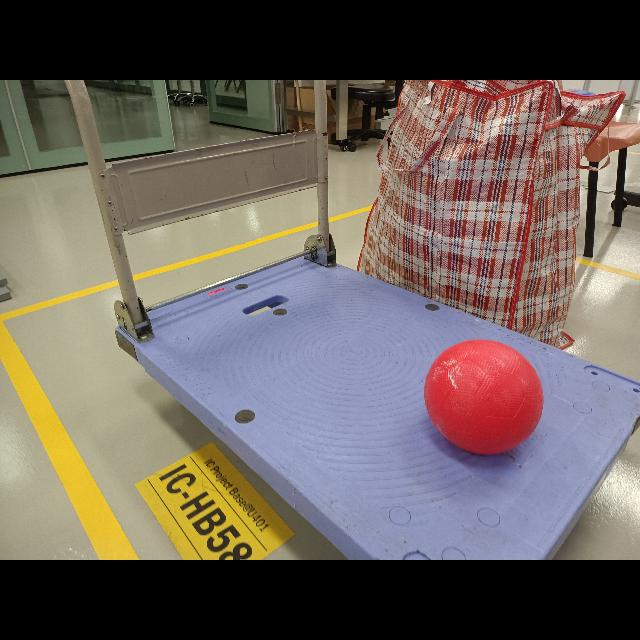R: (424, 340, 544, 454)
